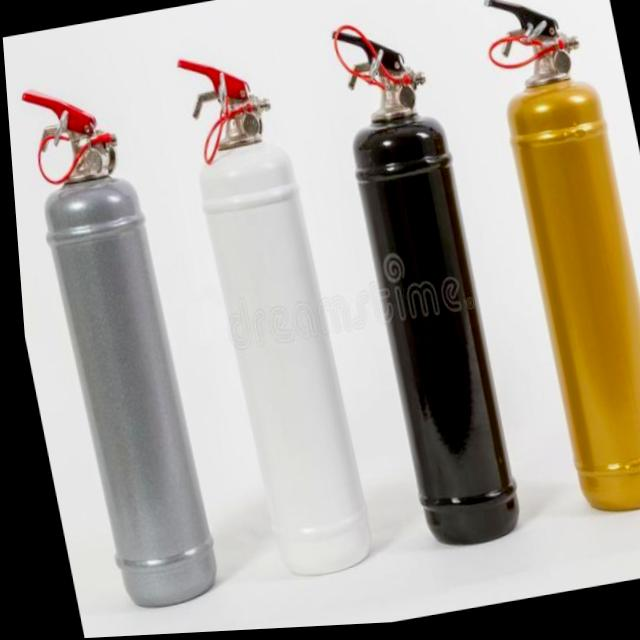FireExtinguisher: (5, 62, 223, 623), (312, 4, 525, 570), (164, 32, 378, 593), (468, 0, 640, 536)
